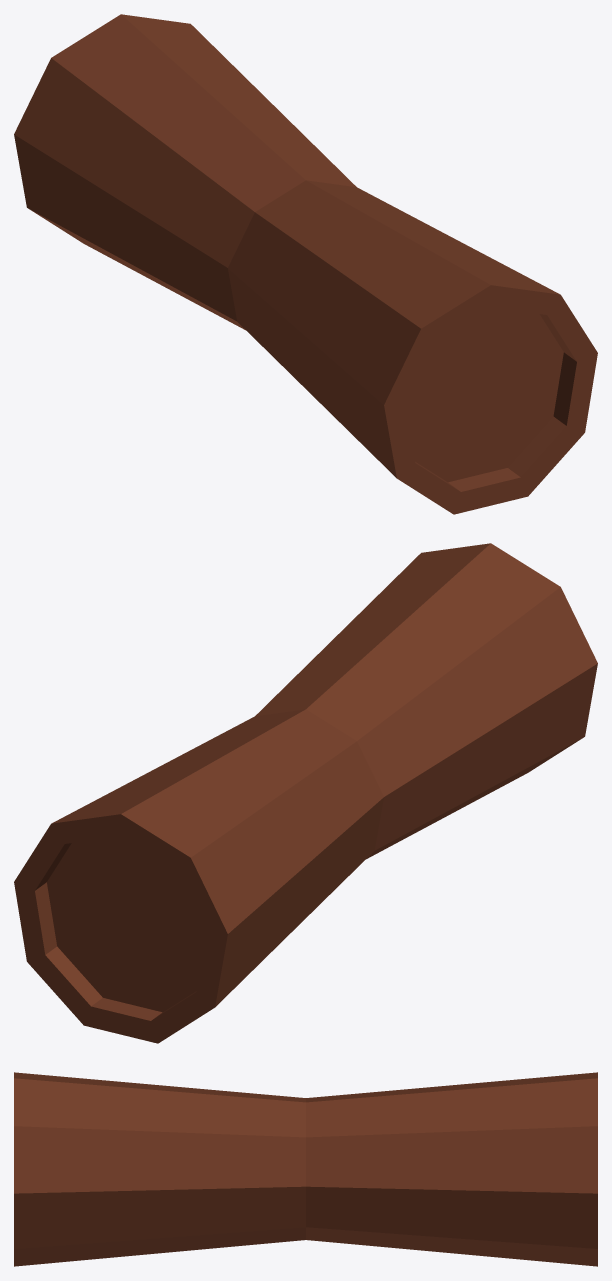
Rendered from log.fbx.
3 views of the same model, one above another, from view 1: azimuth 30°, elevation 25°; view 2: azimuth 150°, elevation 25°; view 3: azimuth 270°, elevation 25° (orthographic). The views are drawn at different scales.
Visible parts, largest first — view 1: Cylinder; view 2: Cylinder; view 3: Cylinder.
Boxes of the visible parts, bbox=[...] form: Cylinder: bbox=[14, 14, 597, 514]; Cylinder: bbox=[14, 543, 597, 1043]; Cylinder: bbox=[14, 1072, 597, 1266].
Bounding box in the file's own units: 197 × 194 × 590.
